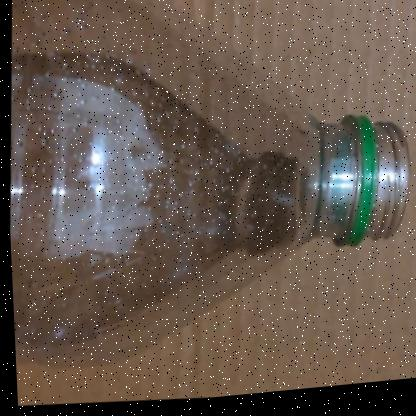open bottle: (90, 1, 416, 396)
